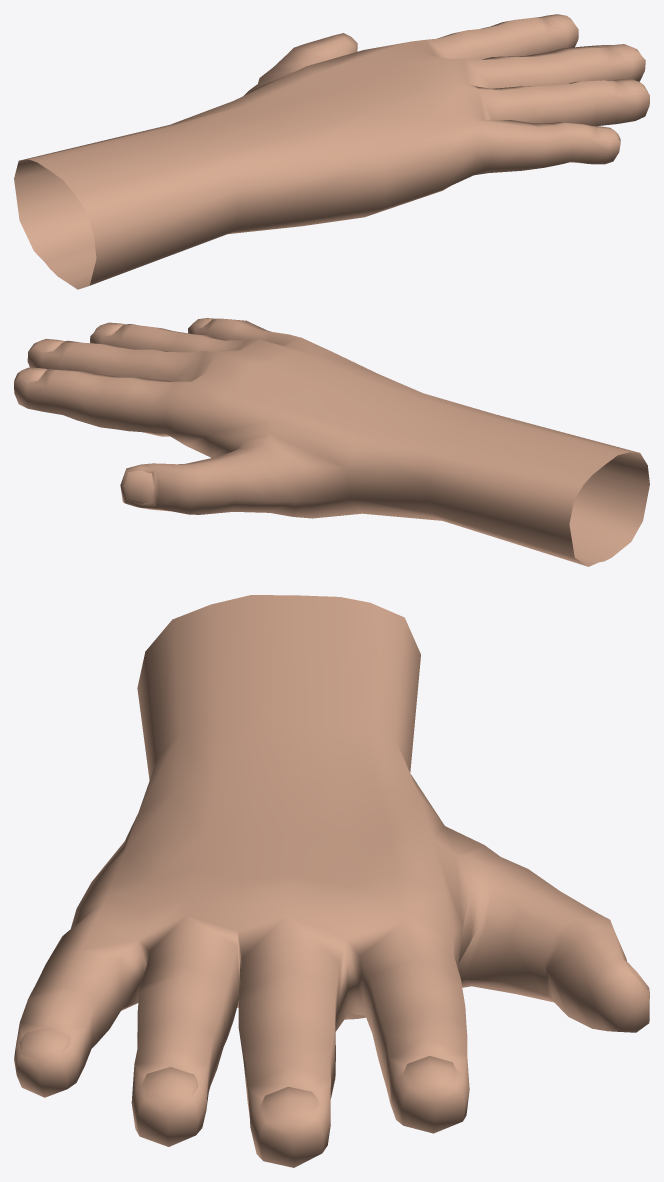
File: leftHand.obj
The picture shows the model from 3 angles, top to bottom: view 1: azimuth 30°, elevation 25°; view 2: azimuth 150°, elevation 25°; view 3: azimuth 270°, elevation 25°; orthographic projection. The views are drawn at different scales.
Size of the model in its own units: 0.2575 by 0.0487 by 0.1398.
